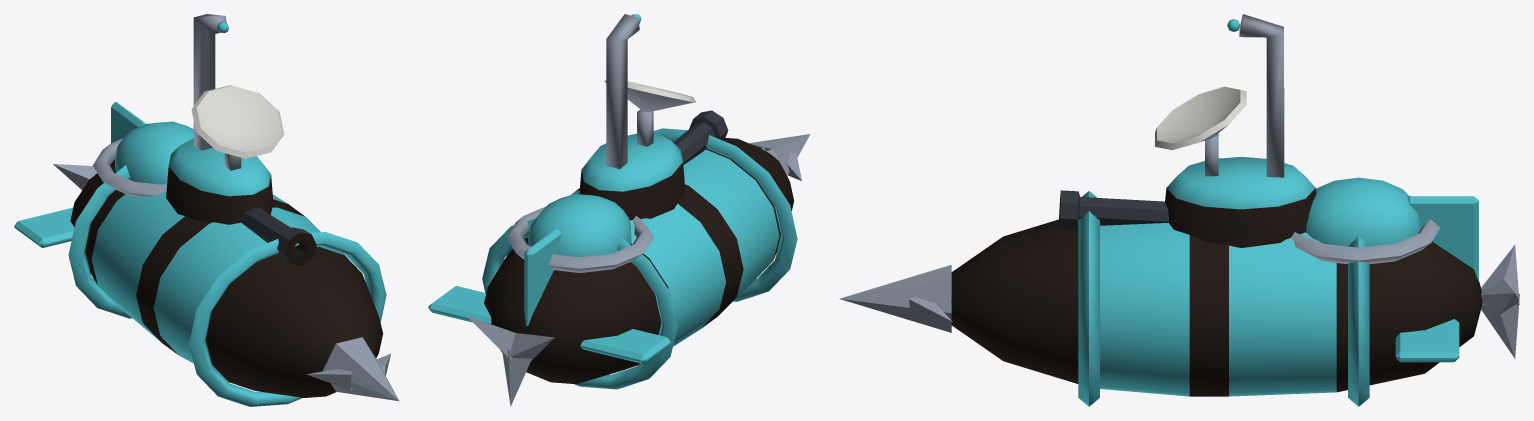
3 renders of one model, left to right at view 1: azimuth 30°, elevation 25°; view 2: azimuth 150°, elevation 25°; view 3: azimuth 270°, elevation 25°, orthographic. The views are drawn at different scales.
Parts seen in each view (by area): view 1: submarino_0_base, submarino_1_torreta; view 2: submarino_0_base, submarino_1_torreta; view 3: submarino_0_base, submarino_1_torreta.
Part boxes in pixels (box(x1,y1,x2,y2)): submarino_0_base: box(14, 102, 399, 406); submarino_1_torreta: box(166, 14, 316, 266); submarino_0_base: box(428, 128, 810, 406); submarino_1_torreta: box(579, 14, 728, 220); submarino_0_base: box(839, 177, 1519, 406); submarino_1_torreta: box(1058, 14, 1316, 247).
Size of the model in its own units: 0.58 by 0.8458 by 1.39.
